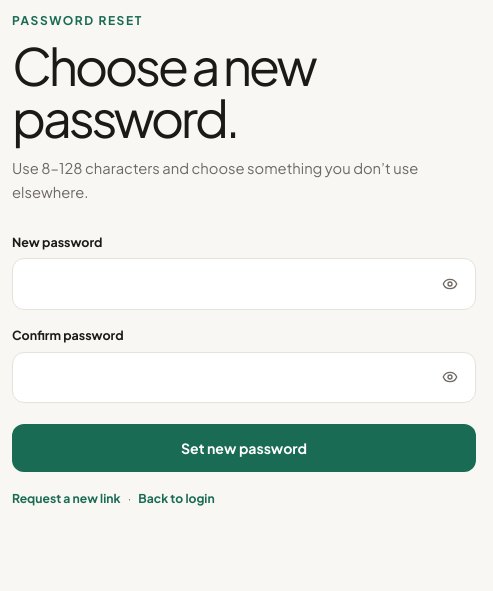
Test: AuthForm › explains an invalid reset token without sending a request
The image size is (493, 591).
In the password field labelled "New password": (244, 284) [12, 258, 476, 310], type "new-password"
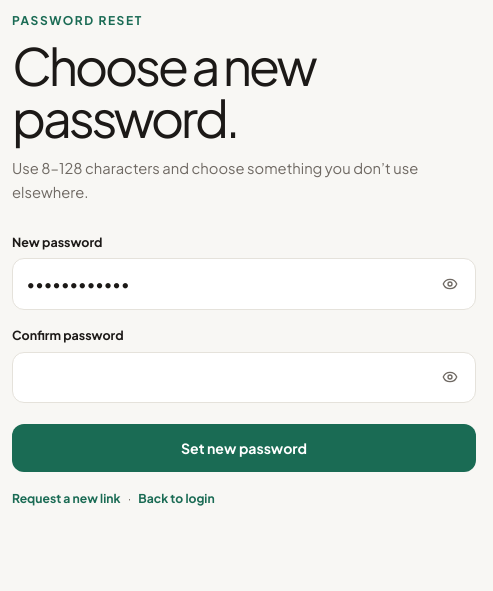
In the password field labelled "Confirm password": (244, 377) [12, 352, 476, 403], type "new-password"
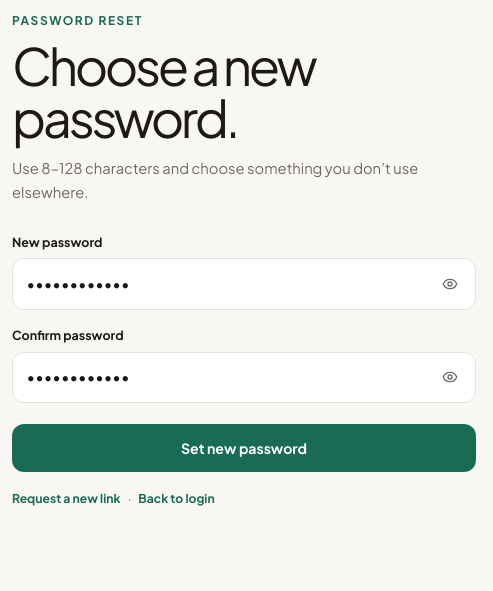
Click the button "Set new password": (244, 448) [12, 424, 476, 472]
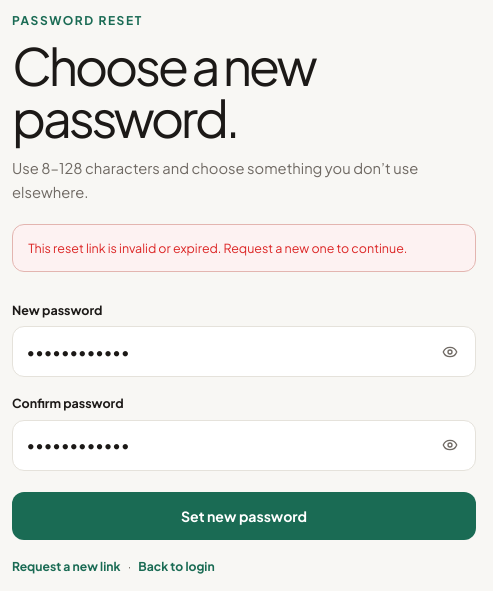
Check: the message shows "invalid or expired", box [28, 240, 407, 256]
